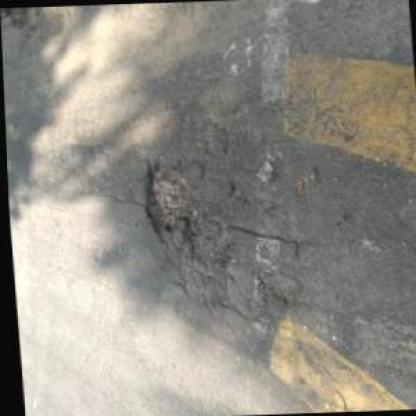pothole: (137, 153, 197, 241), (179, 207, 231, 264), (255, 265, 304, 305)
